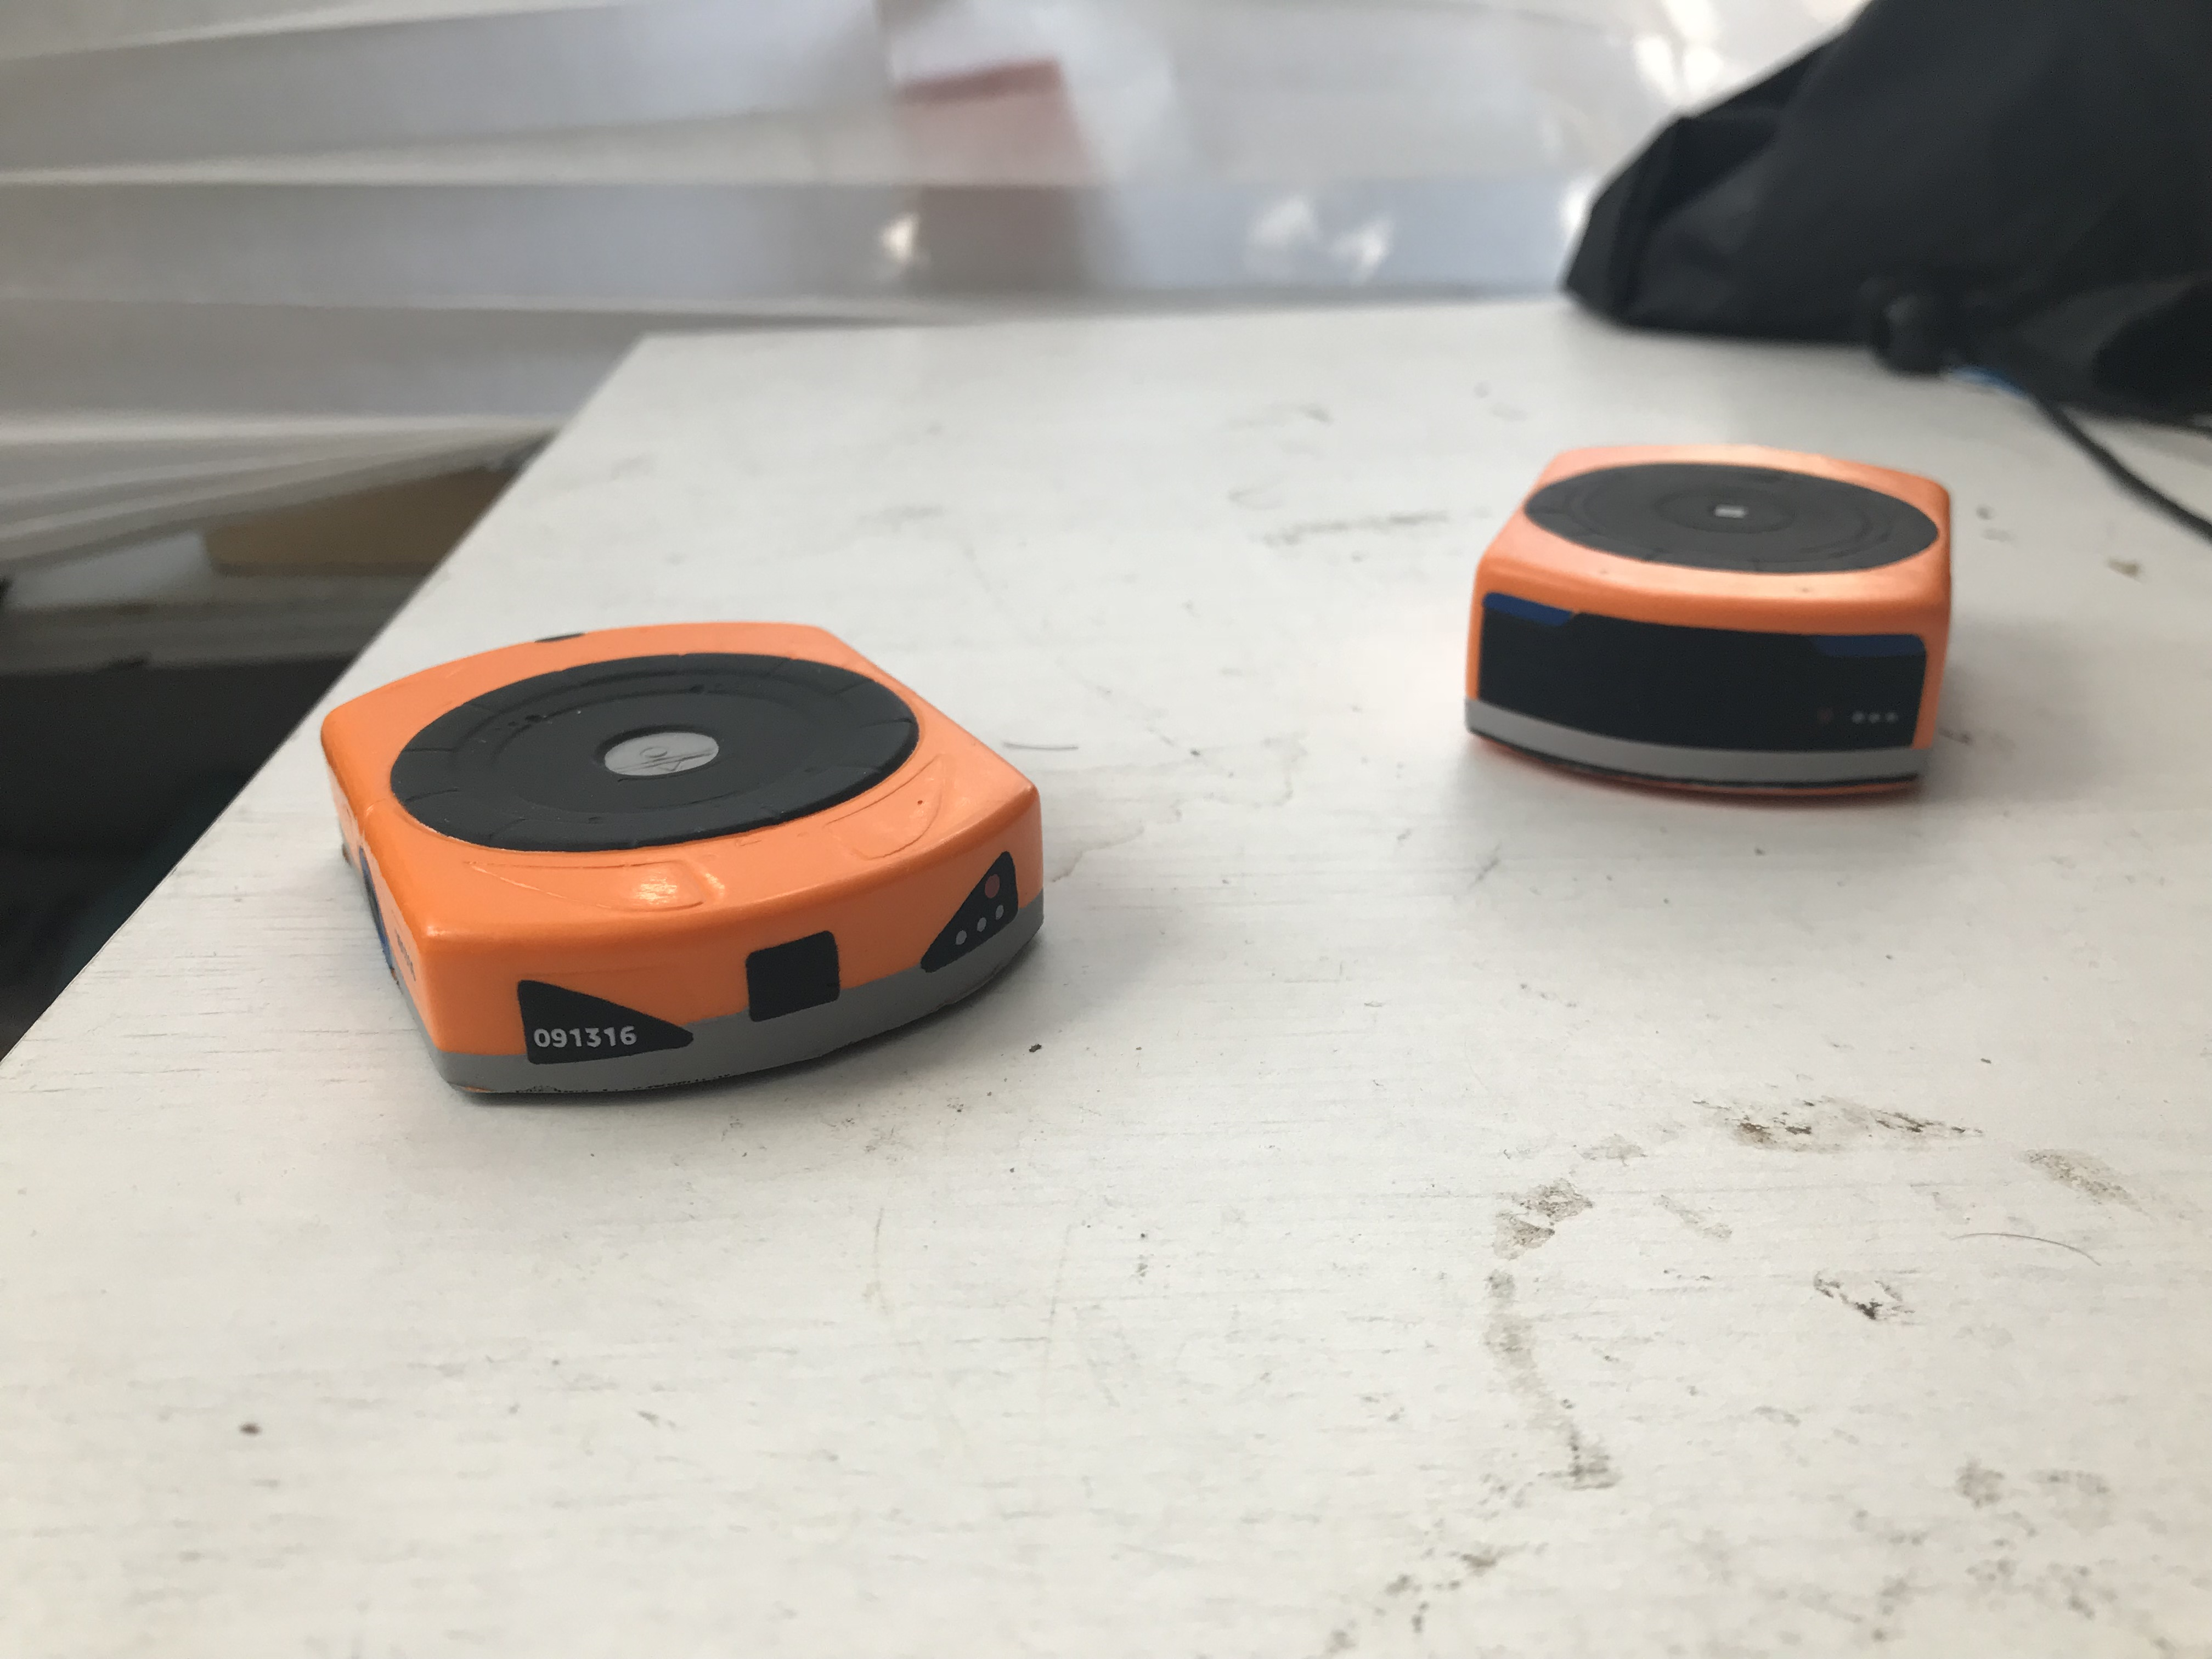amazon_bot: (303, 591, 1122, 1173), (1447, 429, 1977, 836)
